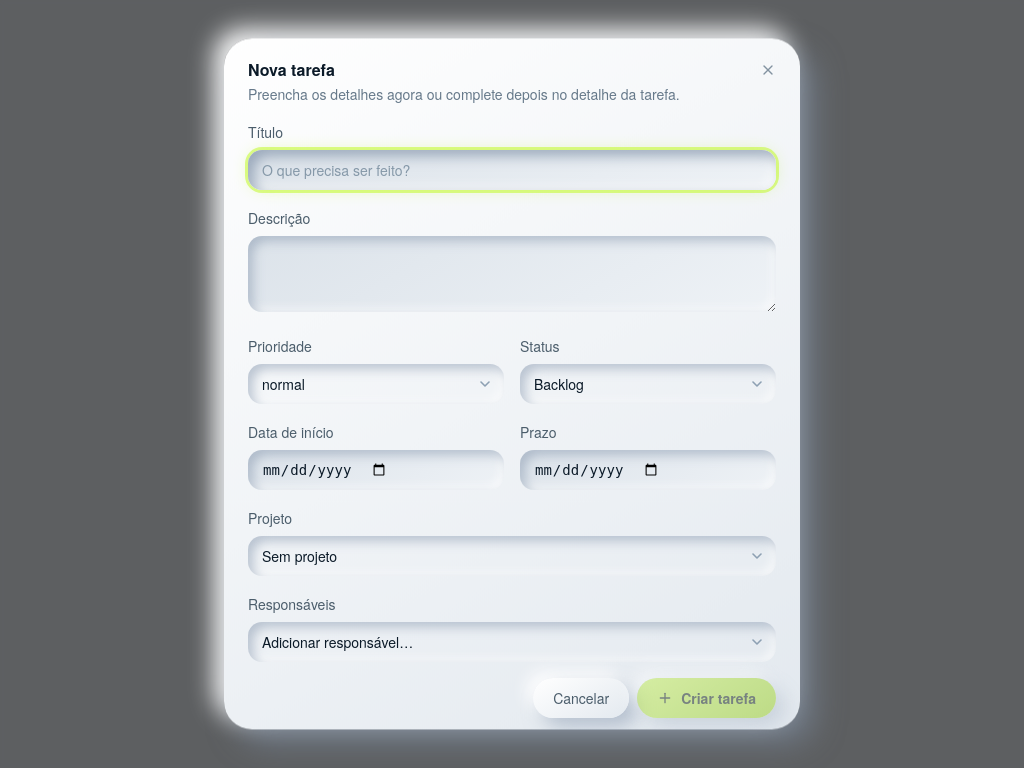
Test: CreateTaskDialog › shows a toast and keeps the dialog open when creation fails
The image size is (1024, 768).
Type "Corrigir bugs" into the field labelled "Título" at coordinates (512, 170), box [248, 150, 776, 190]
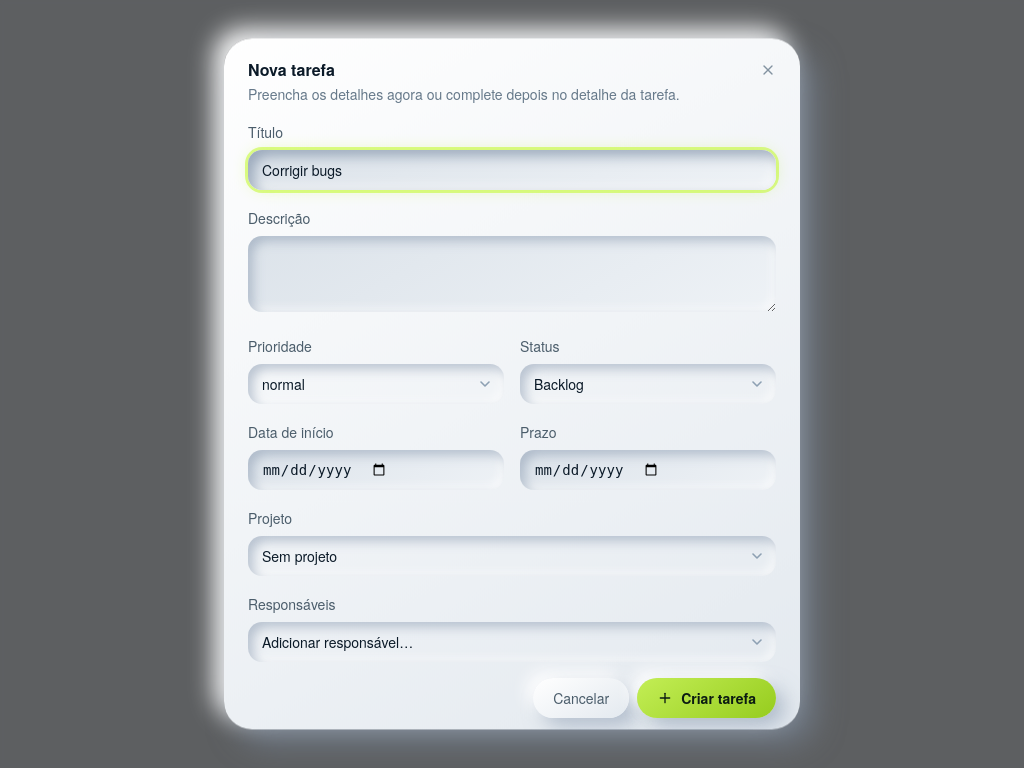
Click the button "Criar tarefa" at coordinates (707, 698), box [637, 678, 776, 718]
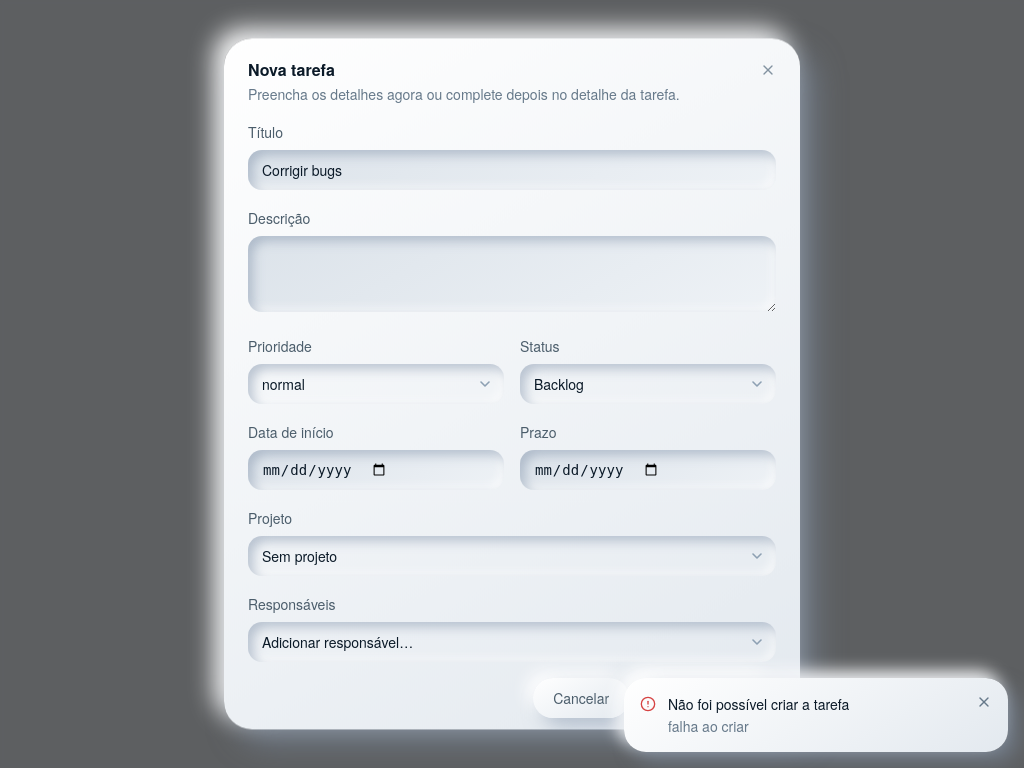
Expected: the text "Não foi possível criar a tarefa" is shown, [668, 694, 849, 714]
